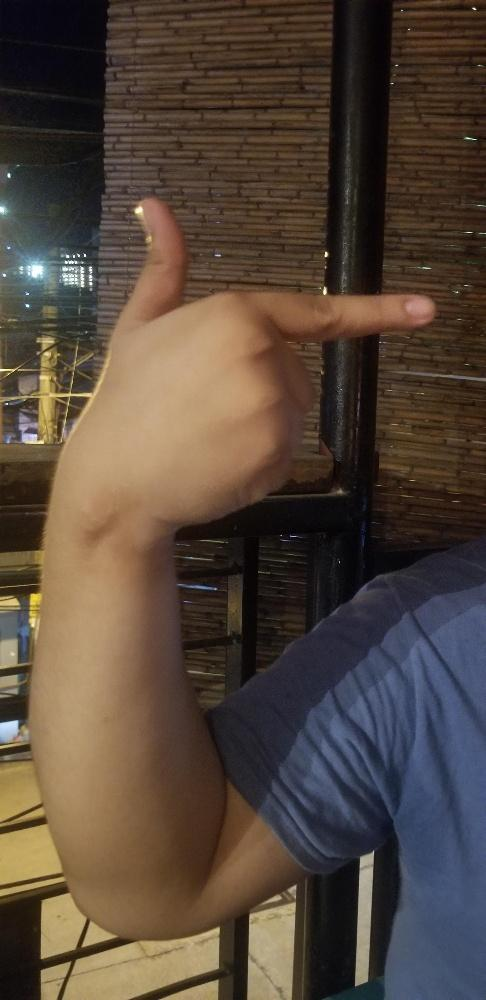g: (108, 196, 433, 531)
